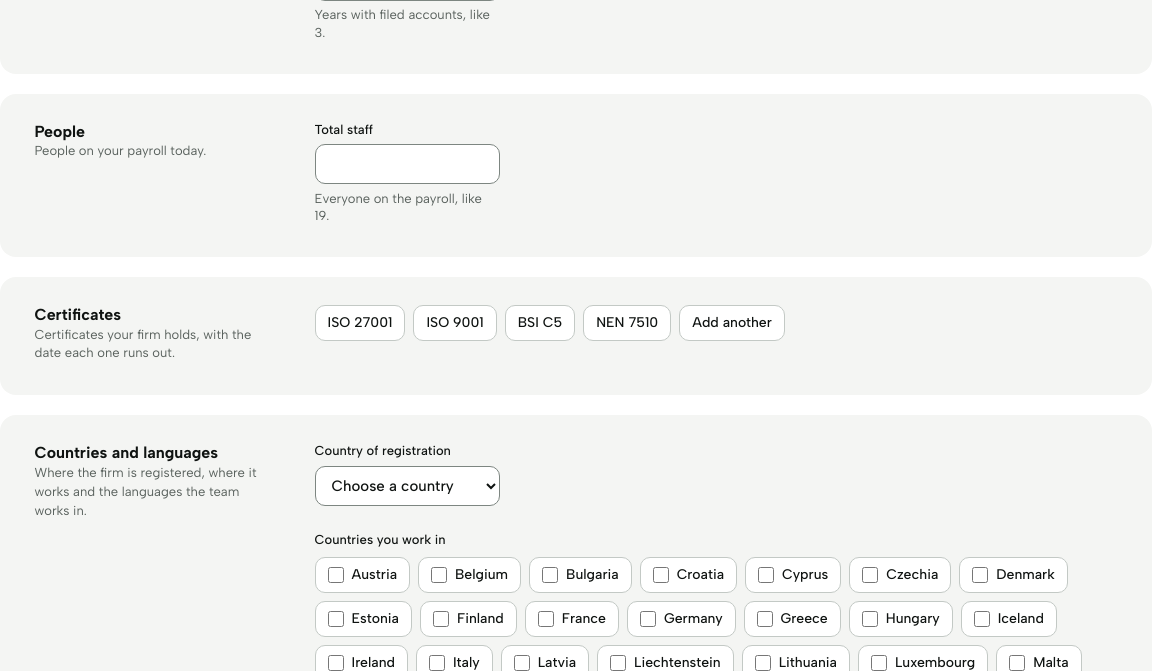
Scenario: ProfileForm, every phase 1 field › fills and clears a certificate and its valid-until date
The width and height of the screenshot is (1152, 671).
(page scrolled)
Click the button "ISO 27001" at [360, 323], box 314,305 -> 405,341
(page scrolled)
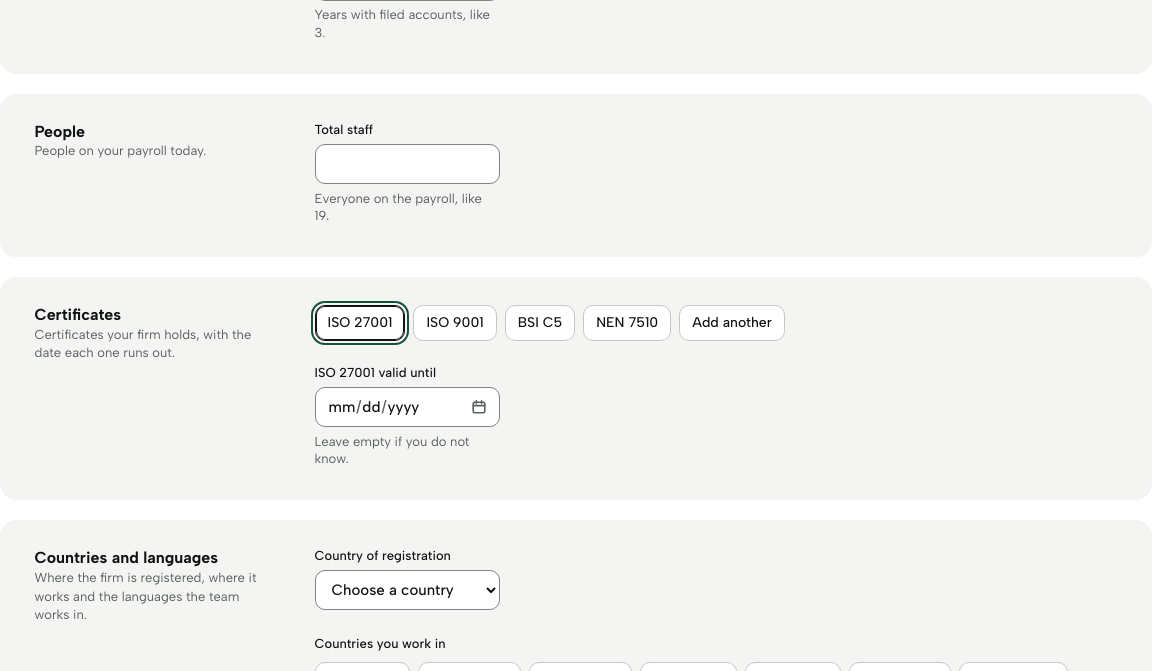
Type "2027-05-31" into the date field labelled "ISO 27001 valid until" at [407, 407], box 314,387 -> 500,427
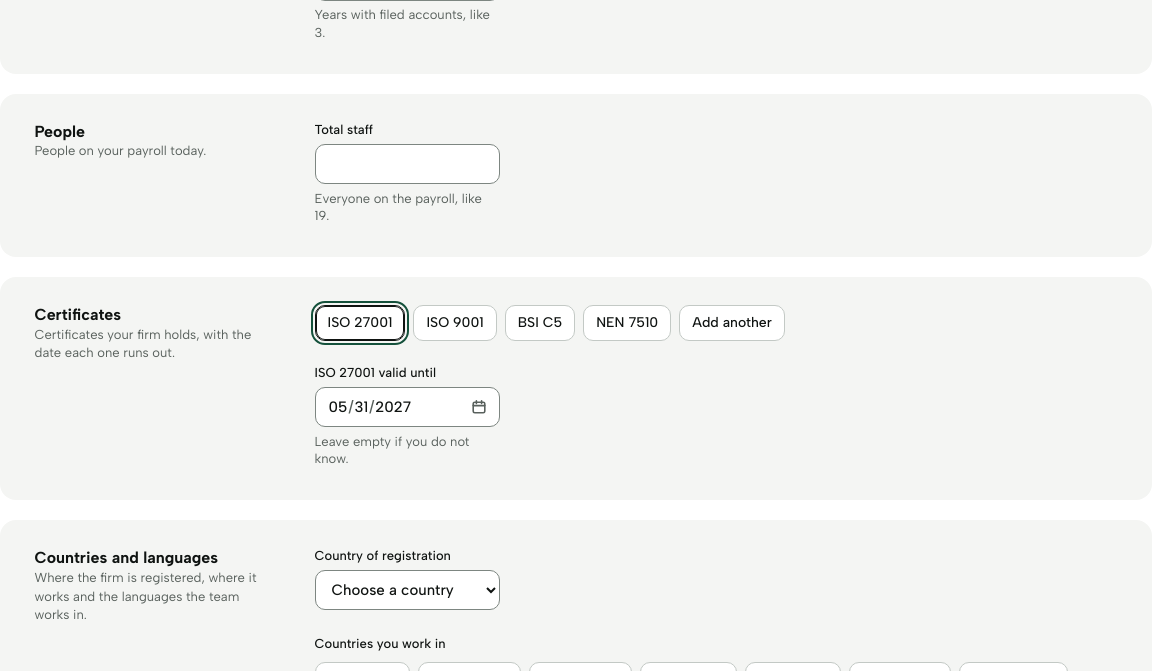
Clear the date field labelled "ISO 27001 valid until" at [407, 407], box 314,387 -> 500,427
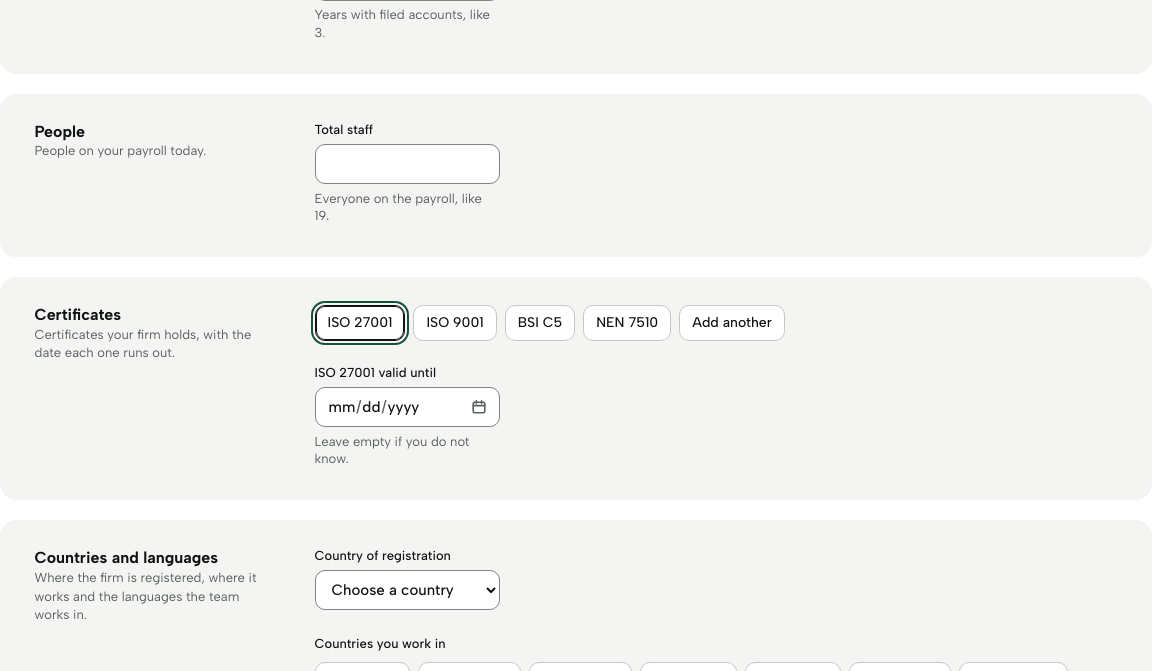
Click the button "ISO 27001" at [360, 323], box 314,305 -> 405,341
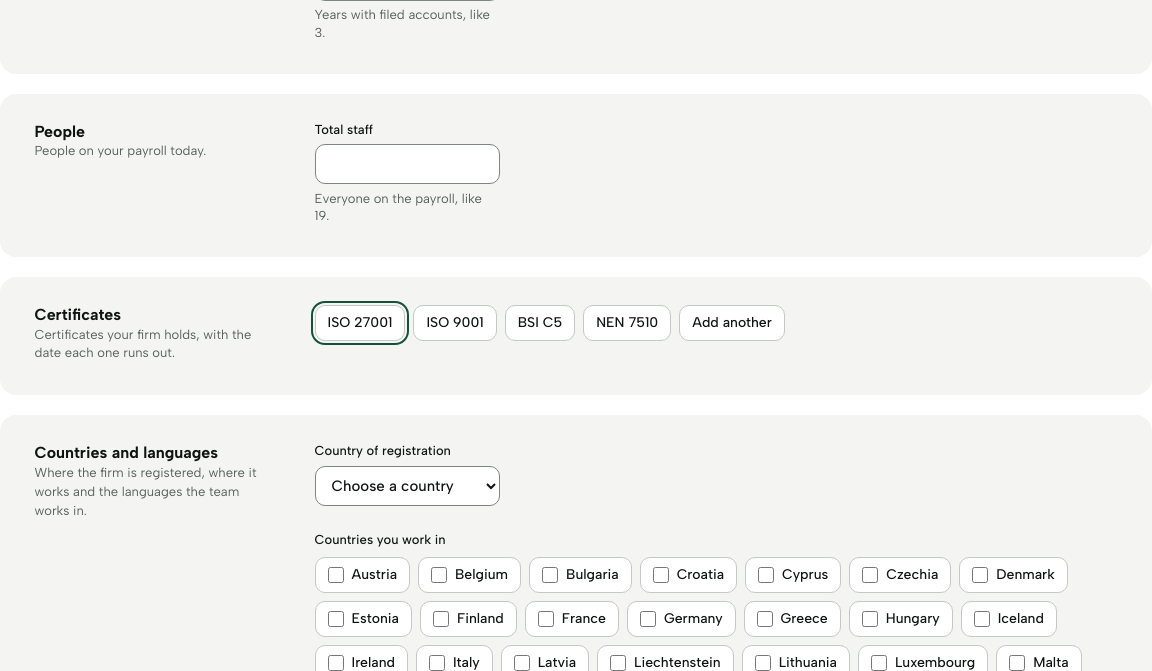
Expected: the label labelled "ISO 27001 valid until" is gone
